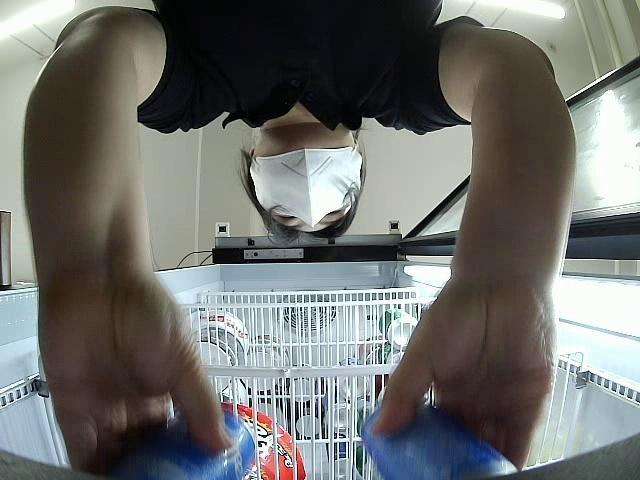15_letsbe: (361, 395, 517, 480), (102, 405, 262, 480)
